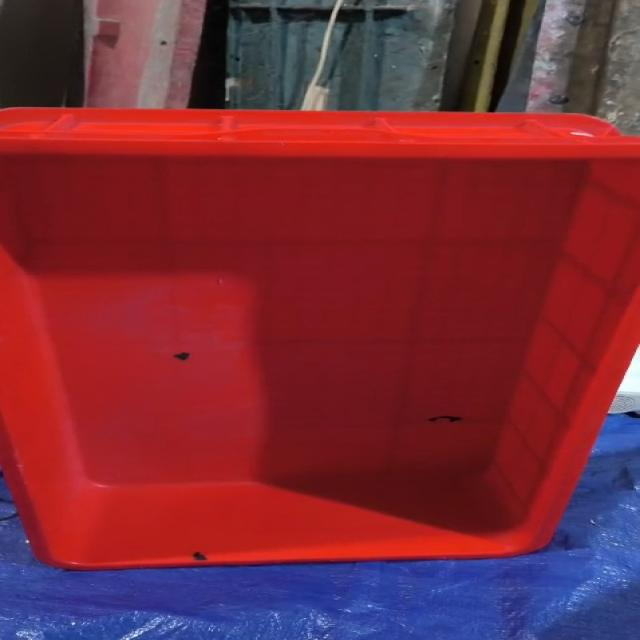red plastic box: (0, 107, 639, 571)
